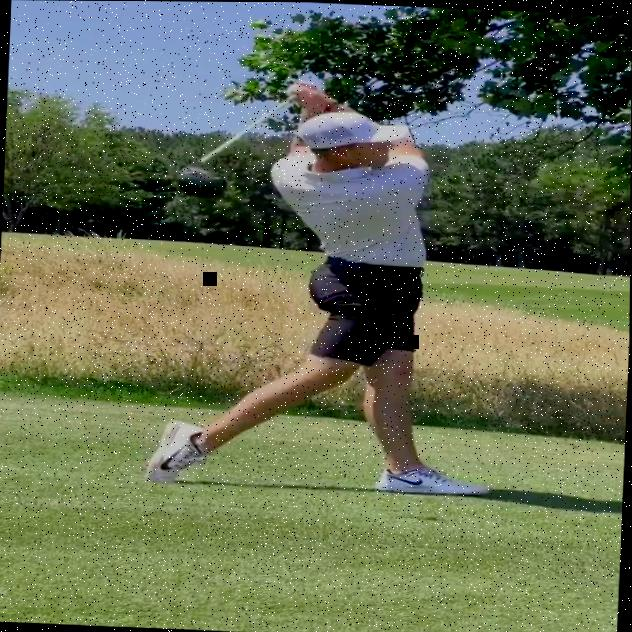ClubHead: (178, 163, 228, 198)
